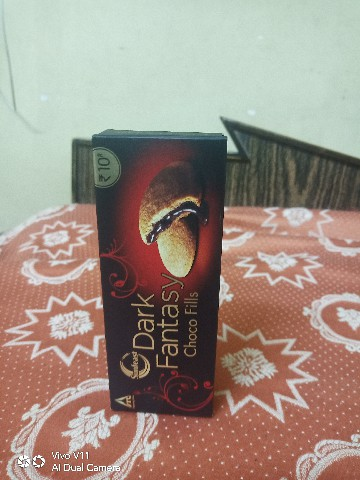darkfantasy small: (82, 103, 237, 437)
